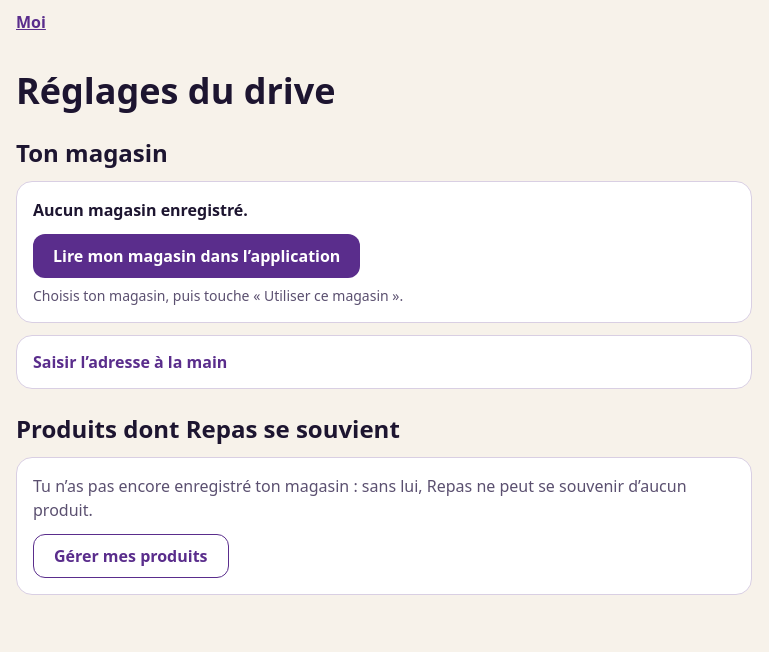
Test: réglages du drive : la lecture du magasin par l’application (un seul geste, DRV-623) › premier enregistrement : le magasin lu est enregistré tout seul, sans « Enregistrer mon magasin »
Check: the heading "Réglages du drive" is shown, box 16,66 -> 336,115
What coordinates should you click on to do the following:
click the button "Lire mon magasin dans l’application"
I would click on:
 (197, 256)
Its box is 33,234 -> 360,278.
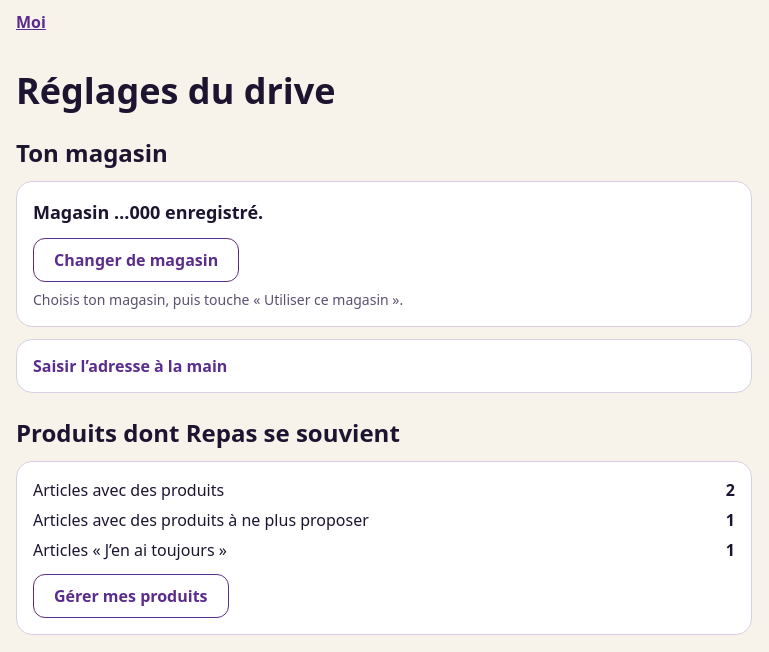
Check: the button "Changer de magasin" is shown, box 33,238 -> 239,282
Check: the text "Magasin …000 enregistré." is shown, box 33,200 -> 263,224
